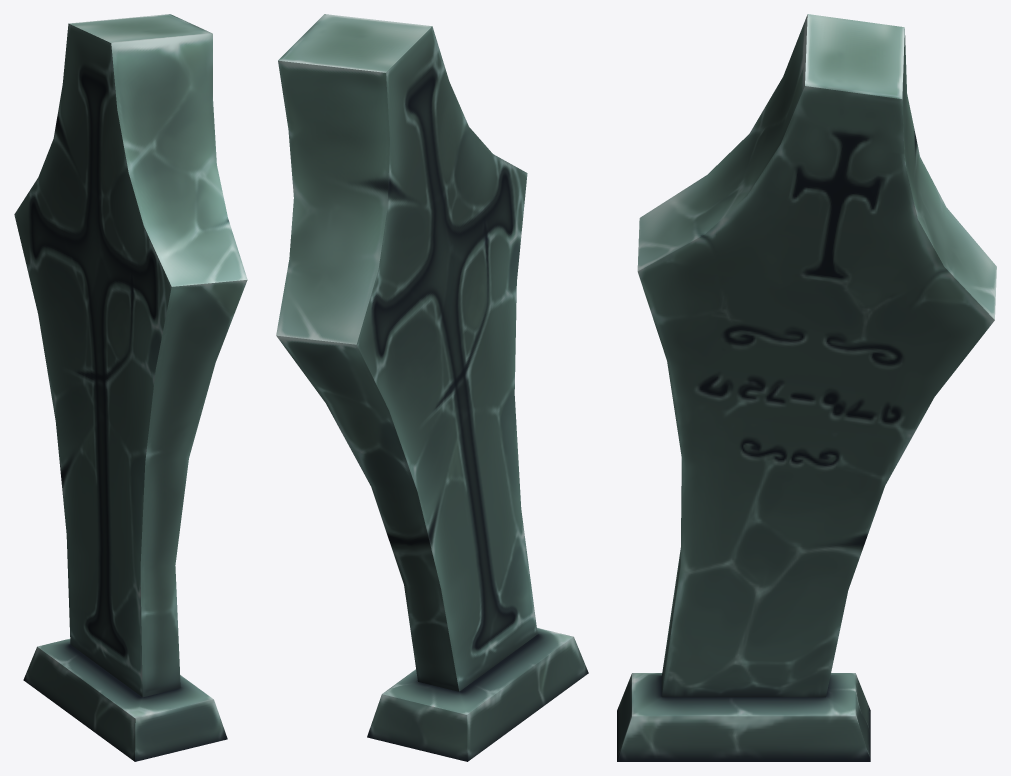
Rendered from tombstone_big_03.fbx.
3 views of the same model, side by side, from view 1: azimuth 30°, elevation 25°; view 2: azimuth 150°, elevation 25°; view 3: azimuth 270°, elevation 25° (orthographic). The views are drawn at different scales.
Parts seen in each view (by area): view 1: tombstone_big_03; view 2: tombstone_big_03; view 3: tombstone_big_03.
Boxes of the visible parts, left/top/right/bottom form: tombstone_big_03: left=14, top=14, right=247, bottom=761; tombstone_big_03: left=276, top=14, right=588, bottom=761; tombstone_big_03: left=617, top=14, right=996, bottom=761.
Bounding box in the file's own units: 5.15 × 19.67 × 9.28.
